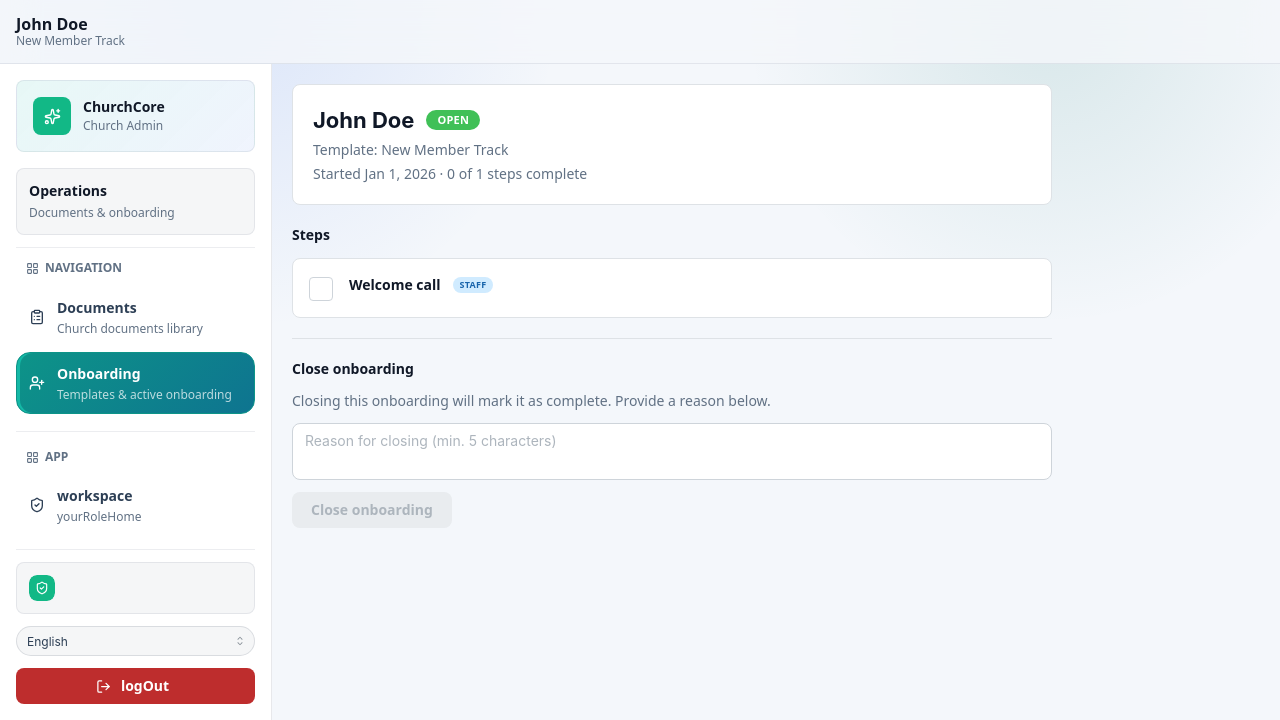
Test: OperationsInstanceDetailClient — close instance (AC20) › updates status badge to Closed, hides close form, and shows success alert after successful close (AC20)
In the text box with placeholder "Reason for closing (min. 5 characters)": x=672, y=452 [292,423,1052,480], type "All steps completed."
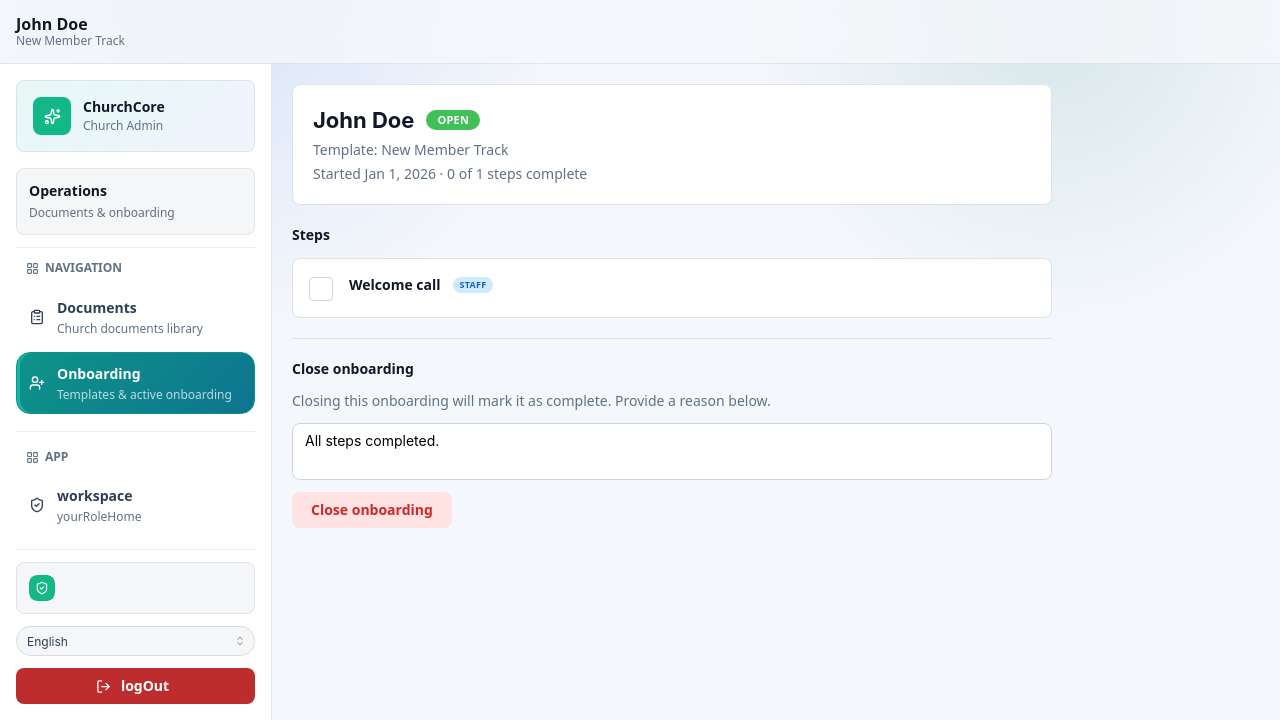
Click the button "Close onboarding": x=372, y=510 [292,492,452,528]
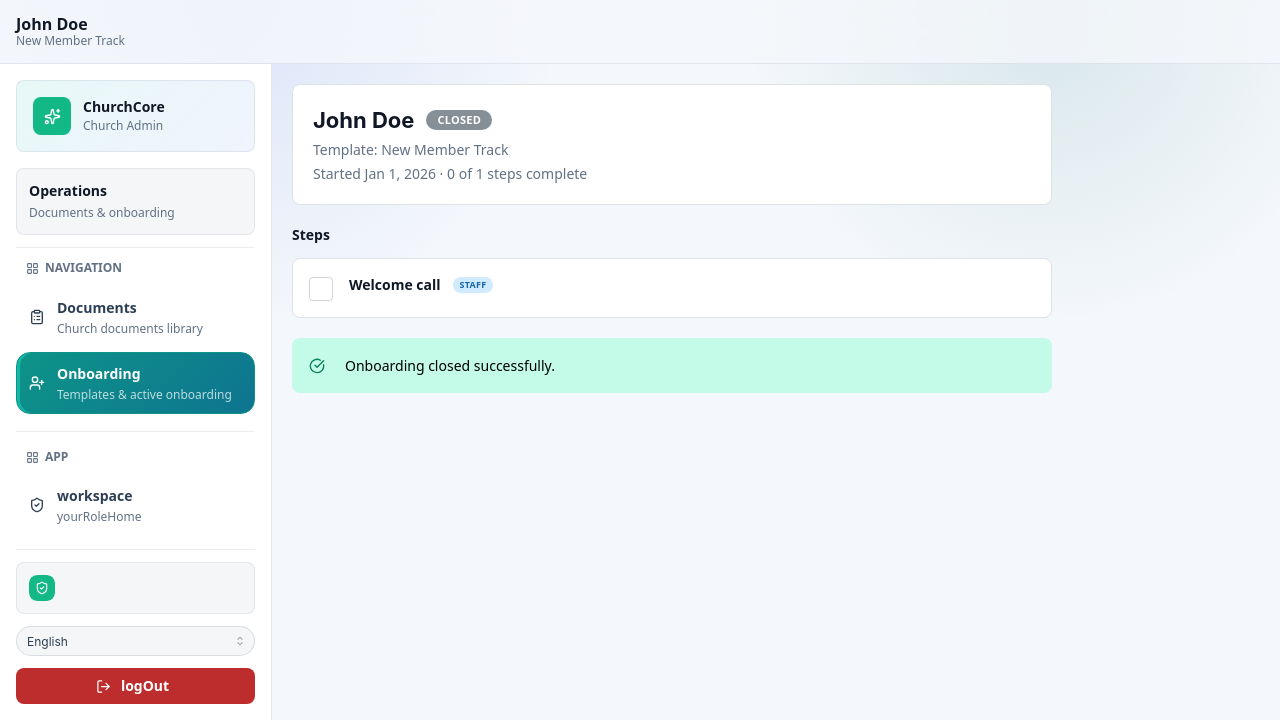
Check: the field with placeholder "reason for closing" is not shown
Check: the text "Closed" is shown, box [438,111,481,129]
Check: the text "Onboarding closed successfully." is shown, box [345,356,555,375]
